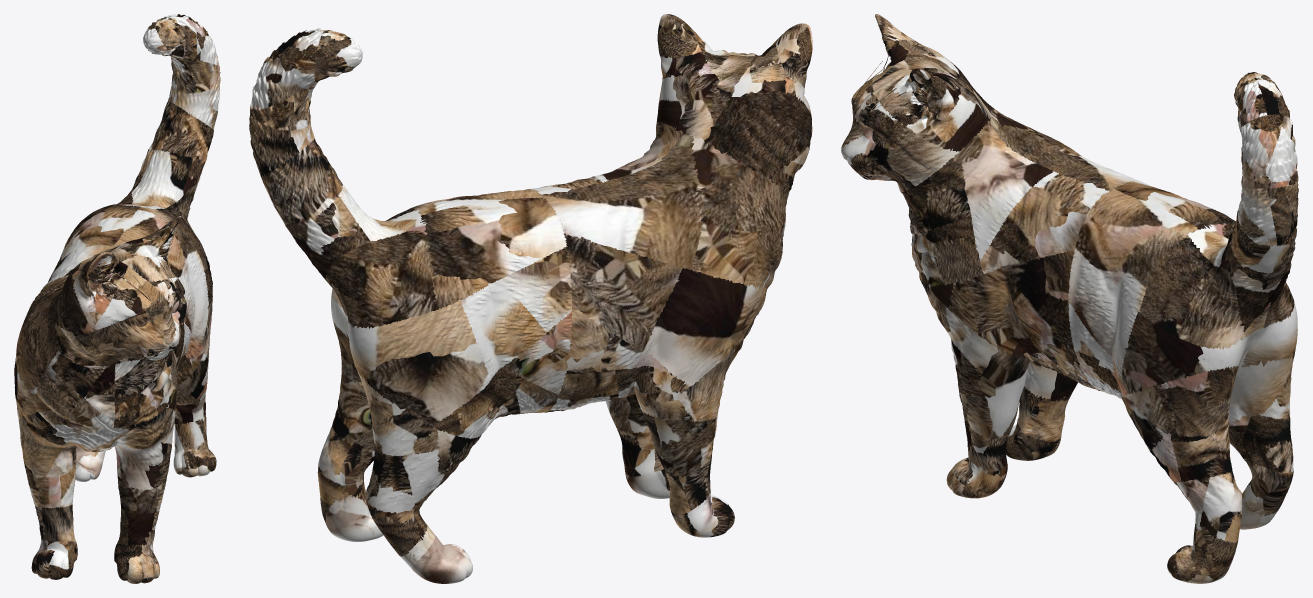
The model's file is v-cat-orig.glb.
3 renders of one model, left to right at view 1: azimuth 30°, elevation 25°; view 2: azimuth 150°, elevation 25°; view 3: azimuth 270°, elevation 25°, orthographic. The views are drawn at different scales.
Size of the model in its own units: 0.3735 by 0.5 by 0.4146.
Materials: 1 (1 with a texture image).
